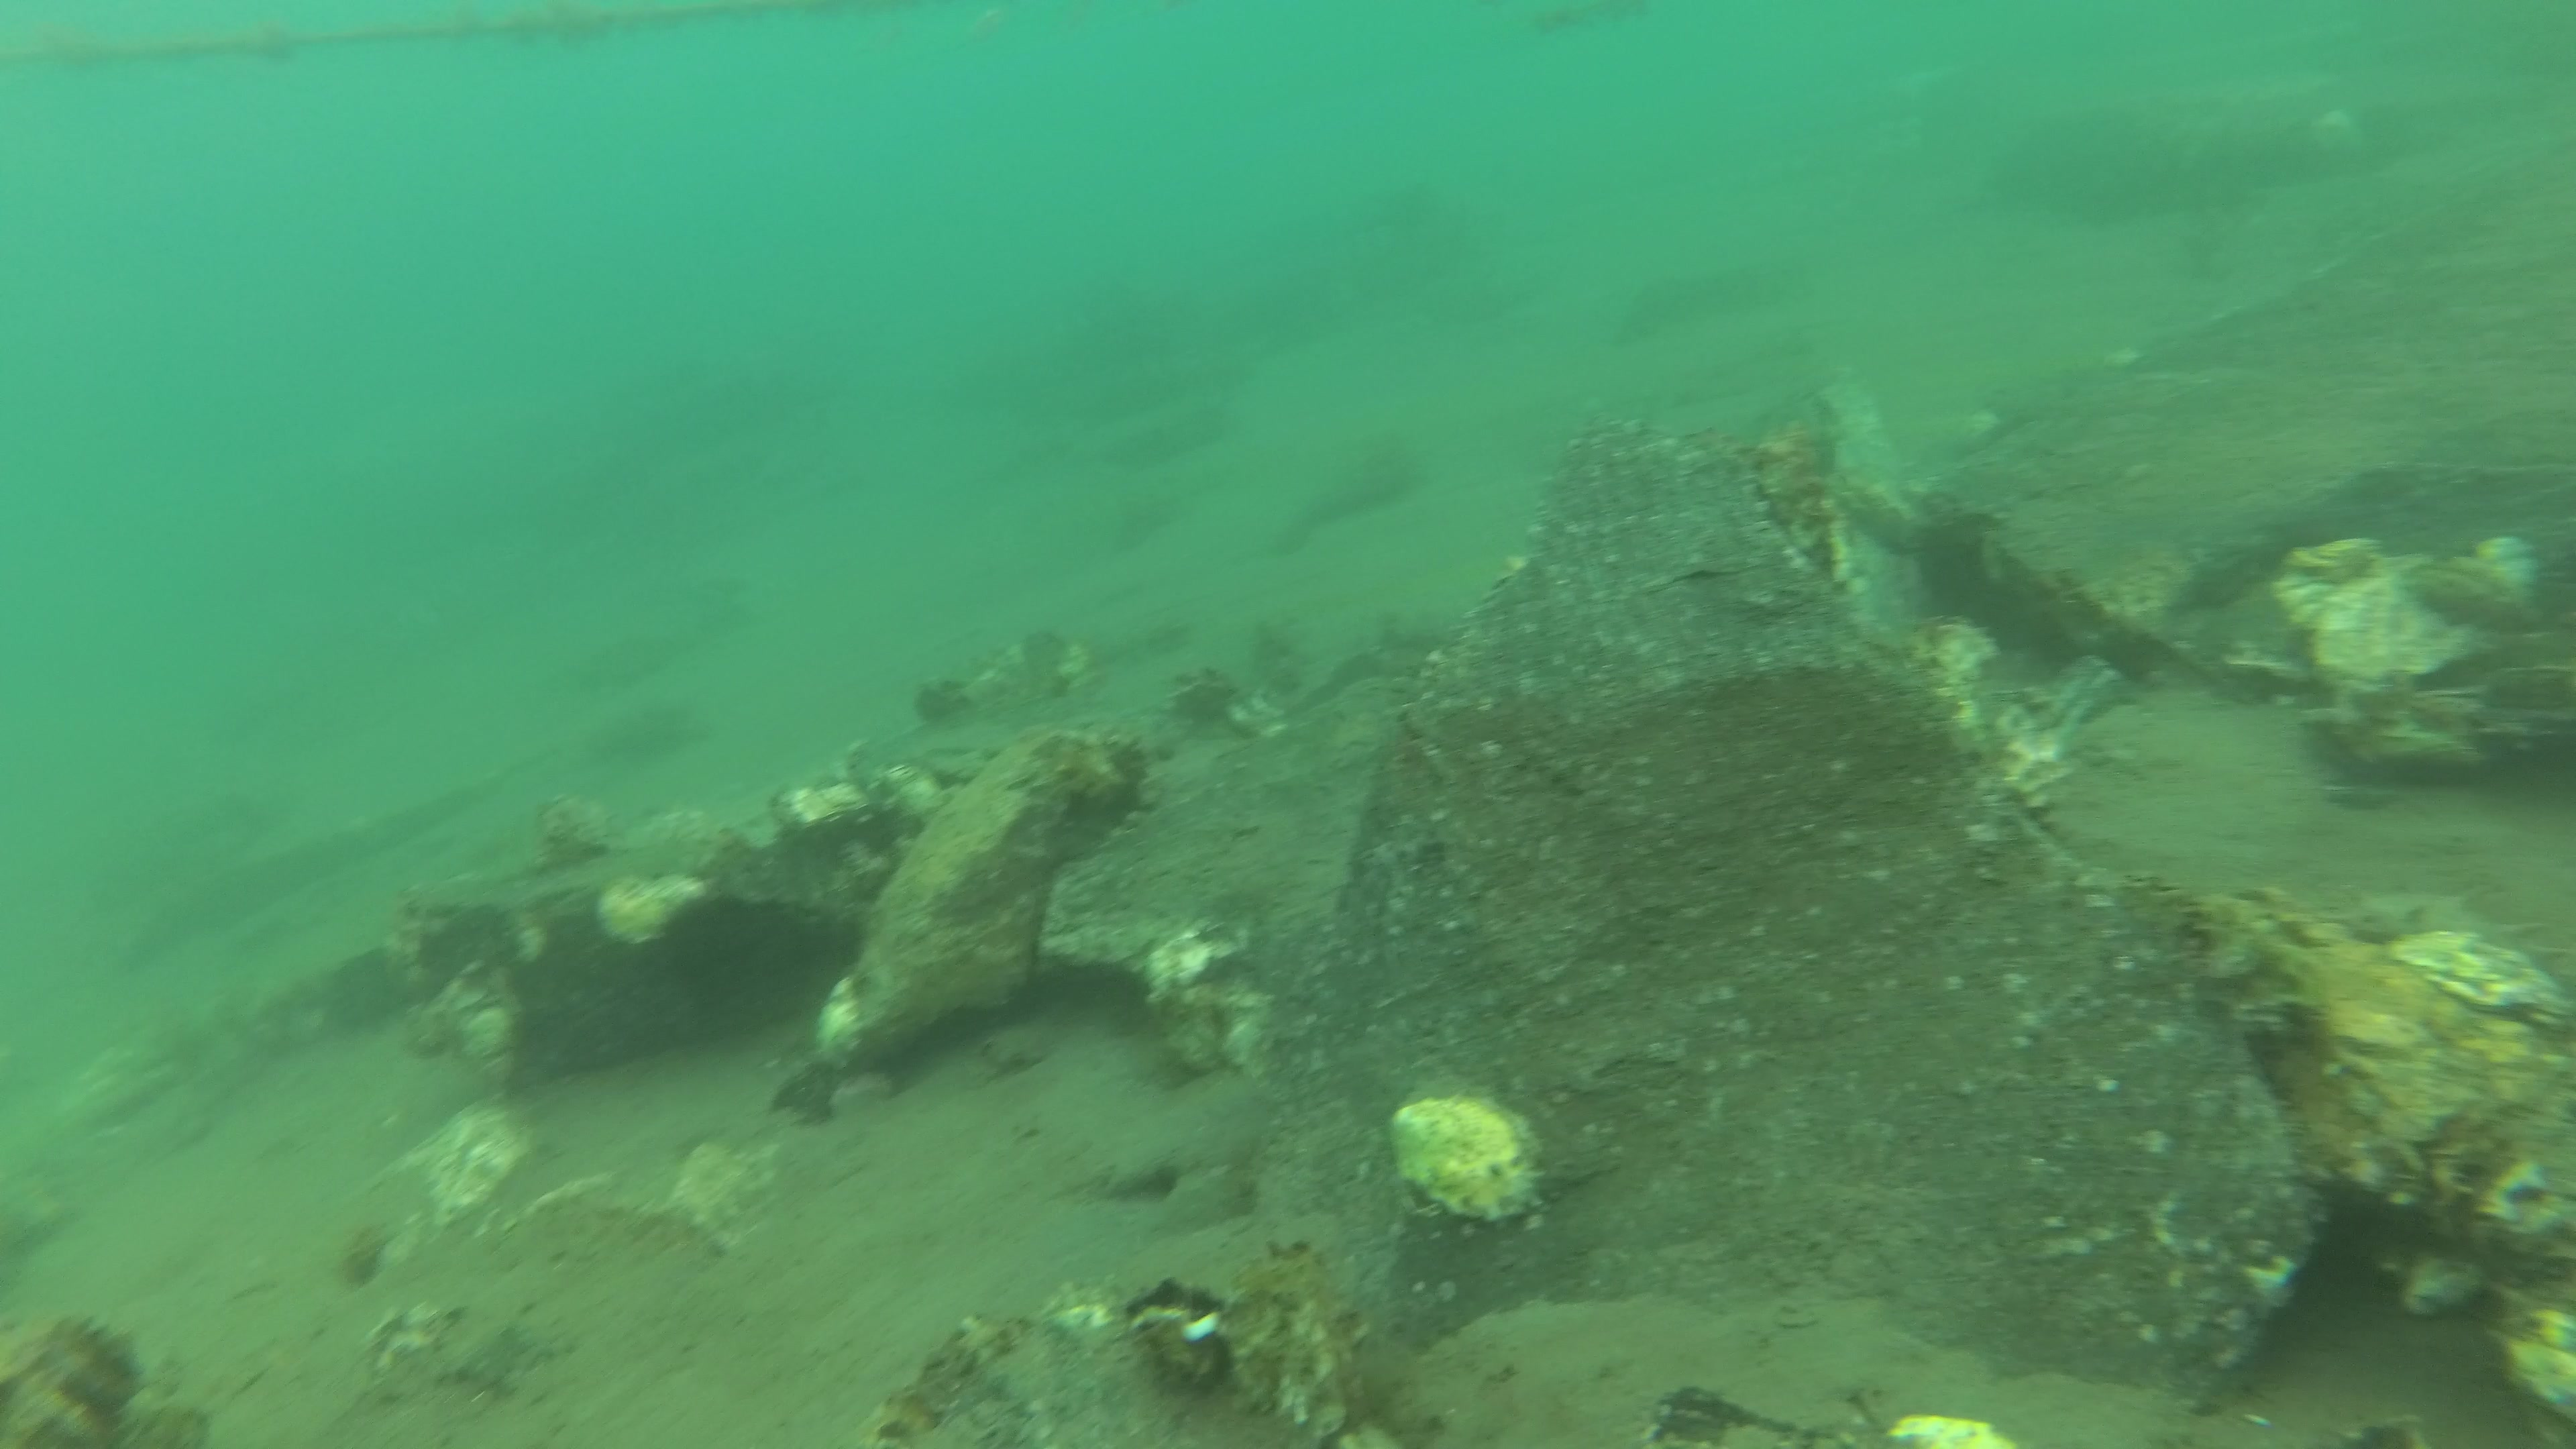echinus: (651, 883, 812, 1014)
